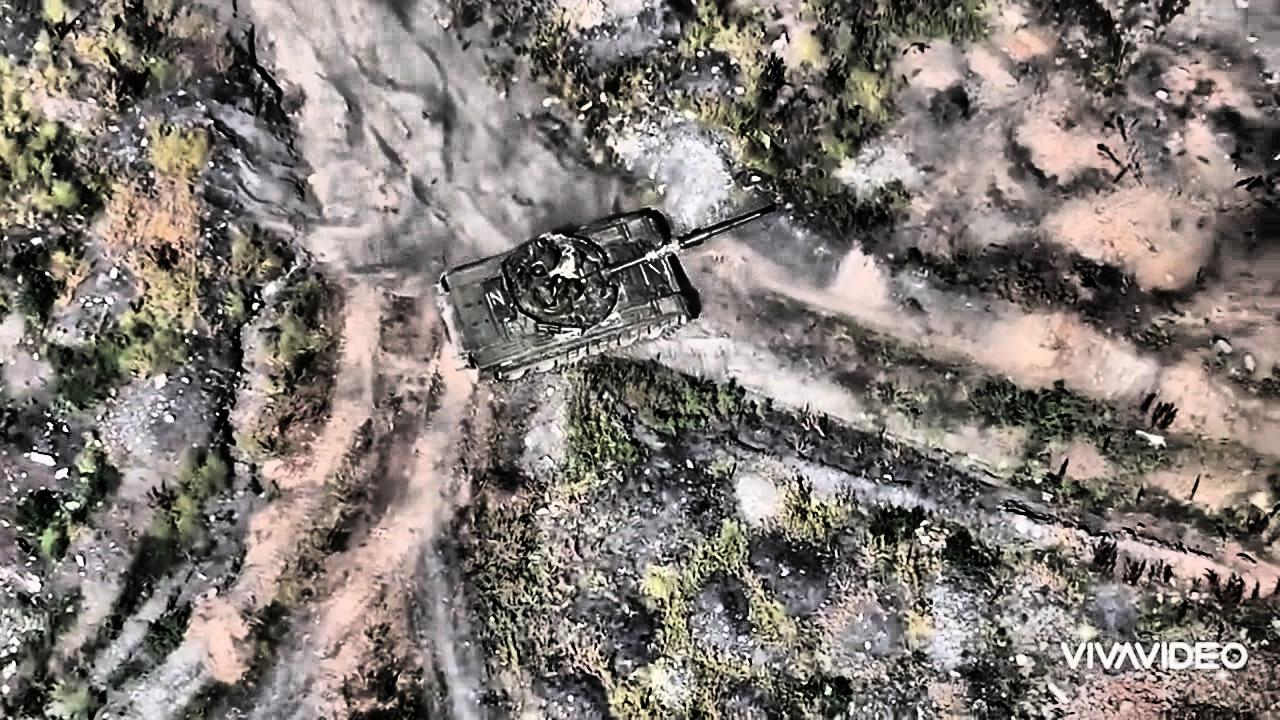military-vehicle: (441, 207, 764, 389)
